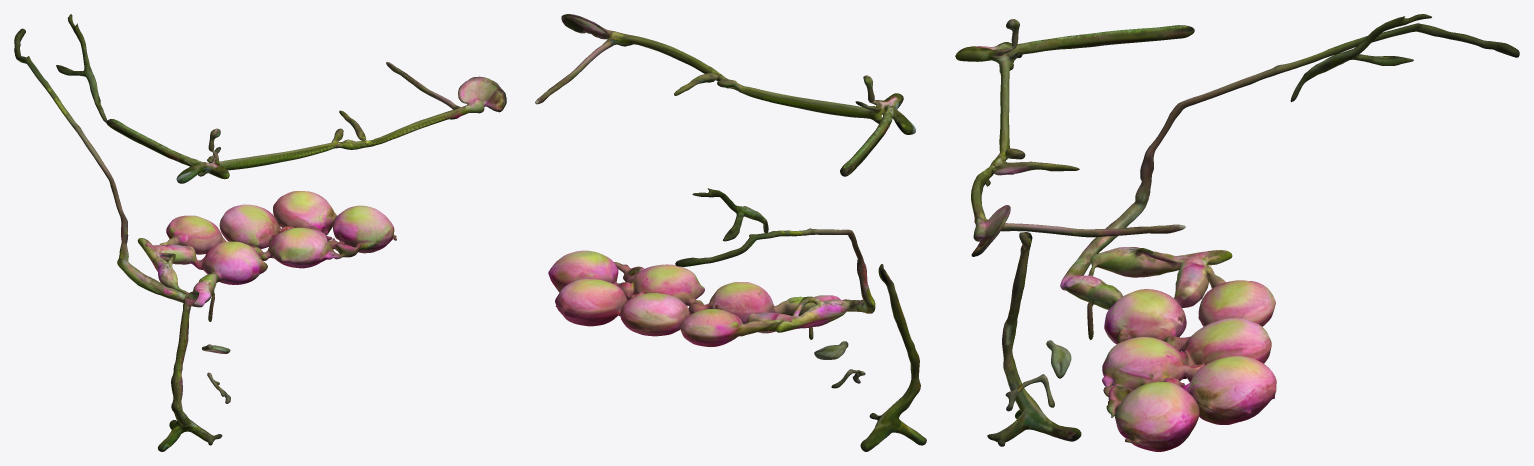
File: herb0056_dup.gltf
The picture shows the model from 3 angles, left to right: view 1: azimuth 30°, elevation 25°; view 2: azimuth 150°, elevation 25°; view 3: azimuth 270°, elevation 25°; orthographic projection. The views are drawn at different scales.
Visible parts, largest first — view 1: Mesh_0; view 2: Mesh_0; view 3: Mesh_0.
Boxes of the visible parts, left/top/right/bottom form: Mesh_0: left=14, top=14, right=506, bottom=451; Mesh_0: left=535, top=14, right=926, bottom=451; Mesh_0: left=955, top=14, right=1519, bottom=451.
Size of the model in its own units: 1.91 by 1.73 by 2.
1 material, 1 textured.
